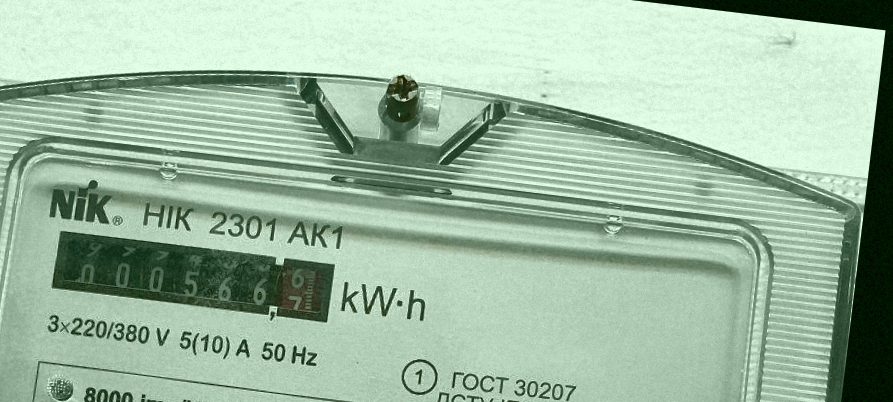0: (111, 257, 132, 288), (145, 262, 166, 293), (76, 258, 97, 283)
5: (180, 267, 201, 298)
6: (248, 273, 271, 306), (212, 271, 235, 302), (288, 264, 307, 291)
7: (285, 292, 303, 312)
9: (83, 237, 103, 259)
screen: (41, 220, 341, 331)
